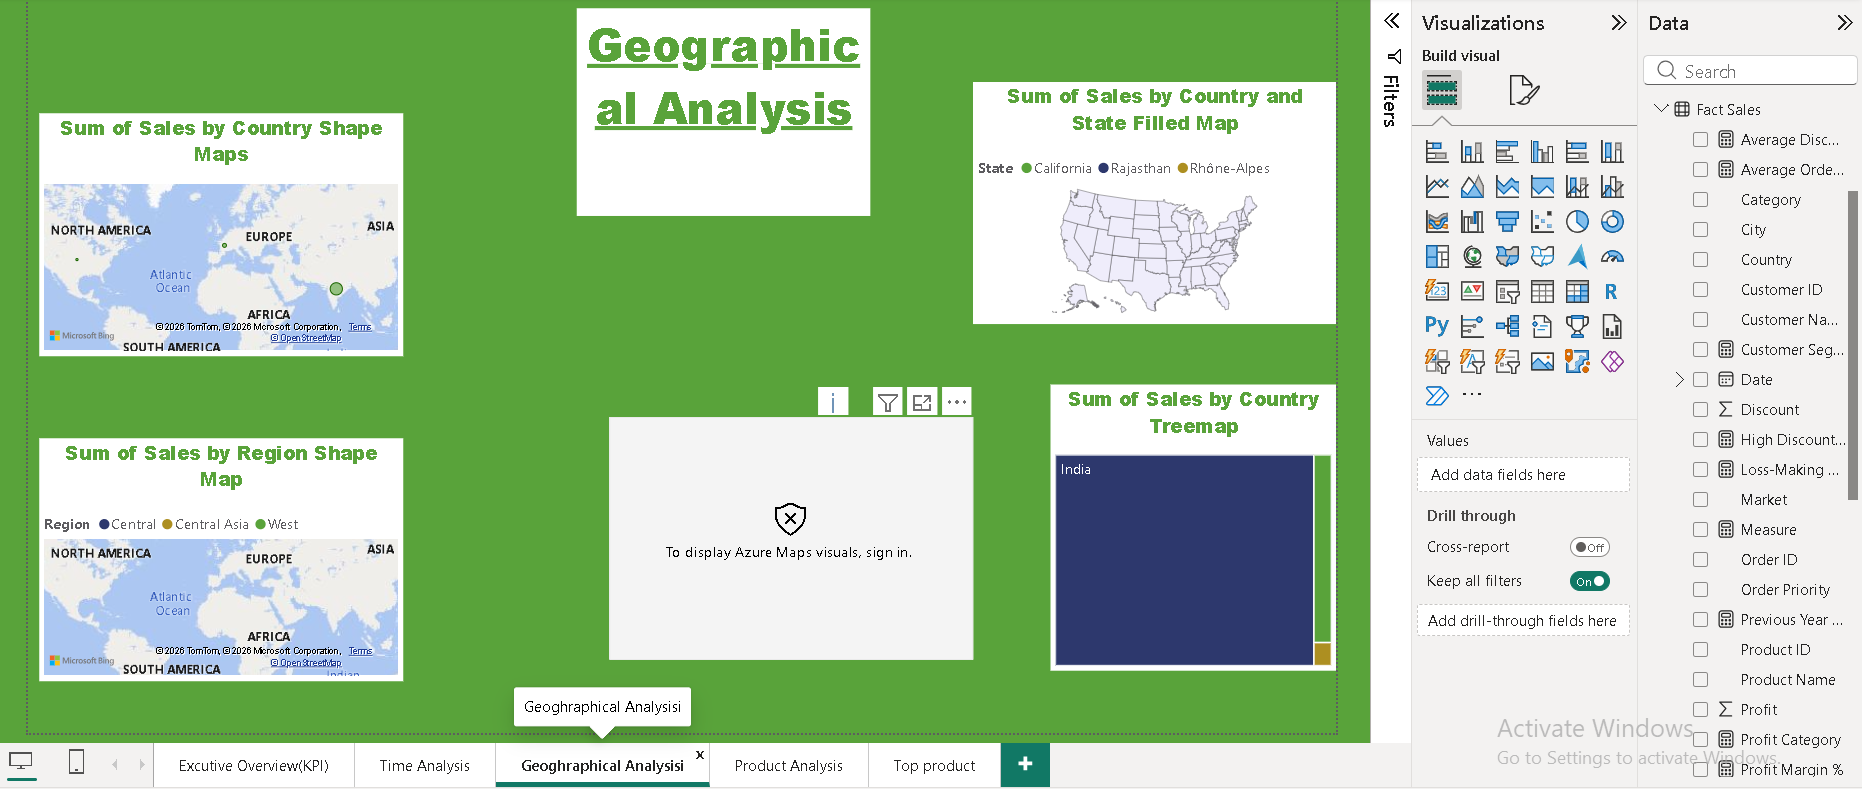

The page's visual inventory and layout, read from the dashboard file:
{"tool":"powerbi","page":{"name":"Geoghraphical Analysisi","canvas":[1280,720],"ordinal":2},"visuals":[{"type":"treemap","title":"Sum of Sales by Country Treemap","fields":{"Values":["Sum(Fact  Sales.Sales)"],"Group":["Fact  Sales.Country"]},"box":[1000.3,379.1,280,280],"z":0},{"type":"map","title":"Sum of Sales by Country Shape Maps","fields":{"Size":["Sum(Fact  Sales.Sales)"],"Category":["Fact  Sales.Country"]},"box":[11,113.7,355.8,237.2],"z":1},{"type":"filledMap","title":"Sum of Sales by Region Shape Map","fields":{"Series":["Fact  Sales.Region"]},"box":[11,431.7,356,237],"z":2},{"type":"shapeMap","title":"Sum of Sales by Country and State Filled Map","fields":{"Value":["Sum(Fact  Sales.Sales)"],"Category":["Fact  Sales.Country"],"Series":["Fact  Sales.State"]},"box":[924.5,83.2,356,237],"z":3},{"type":"azureMap","fields":{"Category":["Fact  Sales.Country"]},"box":[568.6,410.9,356,237],"z":4},{"type":"textbox","box":[536.8,11,287.4,203],"z":5}]}

Visuals, with their boxes on the page's 1280x720 design canvas (x1, y1, x2, y2). These are canvas units, not pixel positions in the 1862x789 screenshot, which may show the page scaled, cropped or inside an application window:
"Sum of Sales by Country Treemap" treemap: {"x1": 1000, "y1": 379, "x2": 1280, "y2": 659}
"Sum of Sales by Country Shape Maps" map: {"x1": 11, "y1": 114, "x2": 367, "y2": 351}
"Sum of Sales by Region Shape Map" filledMap: {"x1": 11, "y1": 432, "x2": 367, "y2": 669}
"Sum of Sales by Country and State Filled Map" shapeMap: {"x1": 924, "y1": 83, "x2": 1280, "y2": 320}
azureMap - Fact  Sales.Country: {"x1": 569, "y1": 411, "x2": 925, "y2": 648}
textbox: {"x1": 537, "y1": 11, "x2": 824, "y2": 214}
